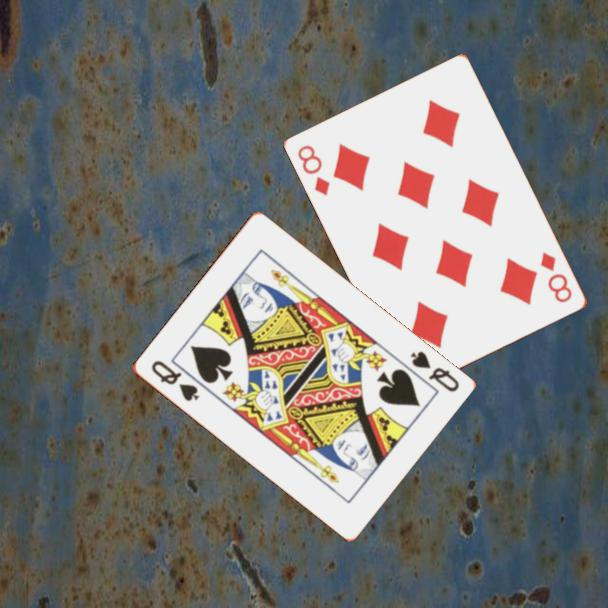d08: (294, 141, 333, 199), (537, 248, 575, 306)
s12: (406, 347, 462, 395), (147, 357, 202, 405)
